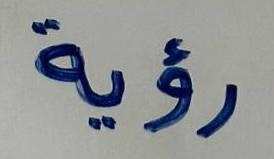reh: (197, 59, 248, 153)
teh_marbota: (20, 8, 88, 108)
waw: (141, 18, 195, 143)
yeh: (88, 48, 130, 142)
